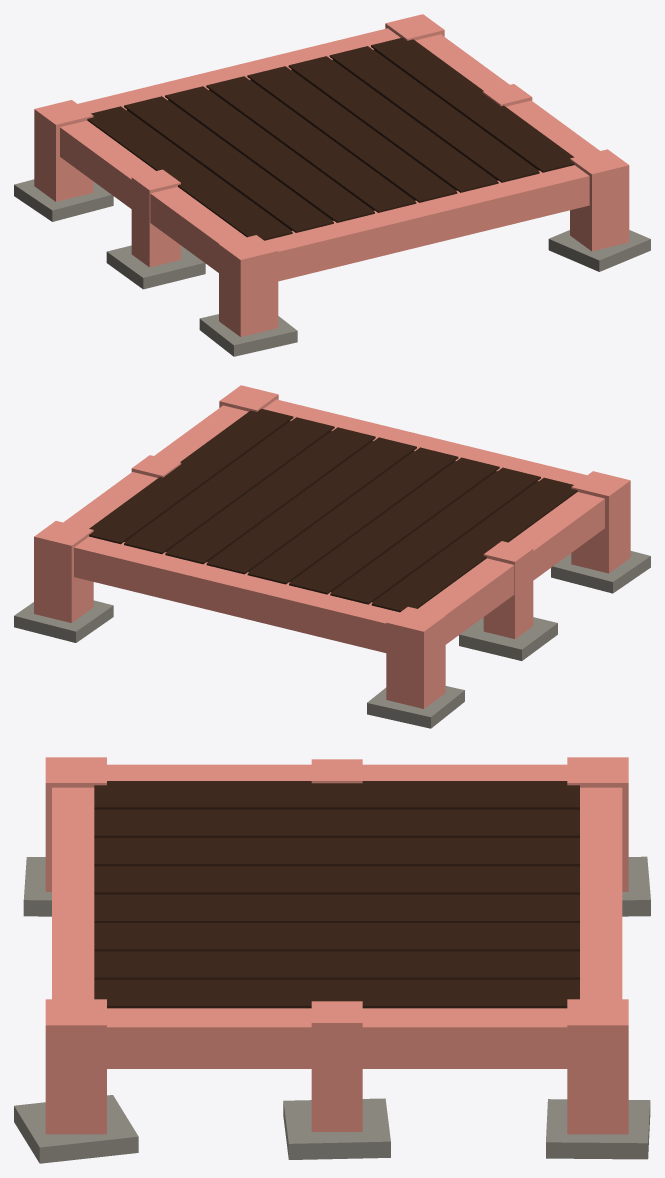
The model's file is foundation.glb.
The picture shows the model from 3 angles, top to bottom: view 1: azimuth 30°, elevation 25°; view 2: azimuth 150°, elevation 25°; view 3: azimuth 270°, elevation 25°; orthographic projection. The views are drawn at different scales.
Visible parts, largest first — view 1: floor, stilts_sills, stone_pads; view 2: floor, stilts_sills, stone_pads; view 3: floor, stilts_sills, stone_pads.
Boxes of the visible parts, x1=… form: floor: x1=87, y1=37, x2=574, y2=240; stilts_sills: x1=34, y1=14, x2=629, y2=336; stone_pads: x1=14, y1=179, x2=650, y2=356; floor: x1=89, y1=408, x2=577, y2=612; stilts_sills: x1=34, y1=385, x2=630, y2=708; stone_pads: x1=14, y1=551, x2=650, y2=728; floor: x1=94, y1=781, x2=579, y2=1008; stilts_sills: x1=45, y1=757, x2=628, y2=1134; stone_pads: x1=14, y1=856, x2=650, y2=1163.
Size of the model in its own units: 2.69 by 0.54 by 2.49.
